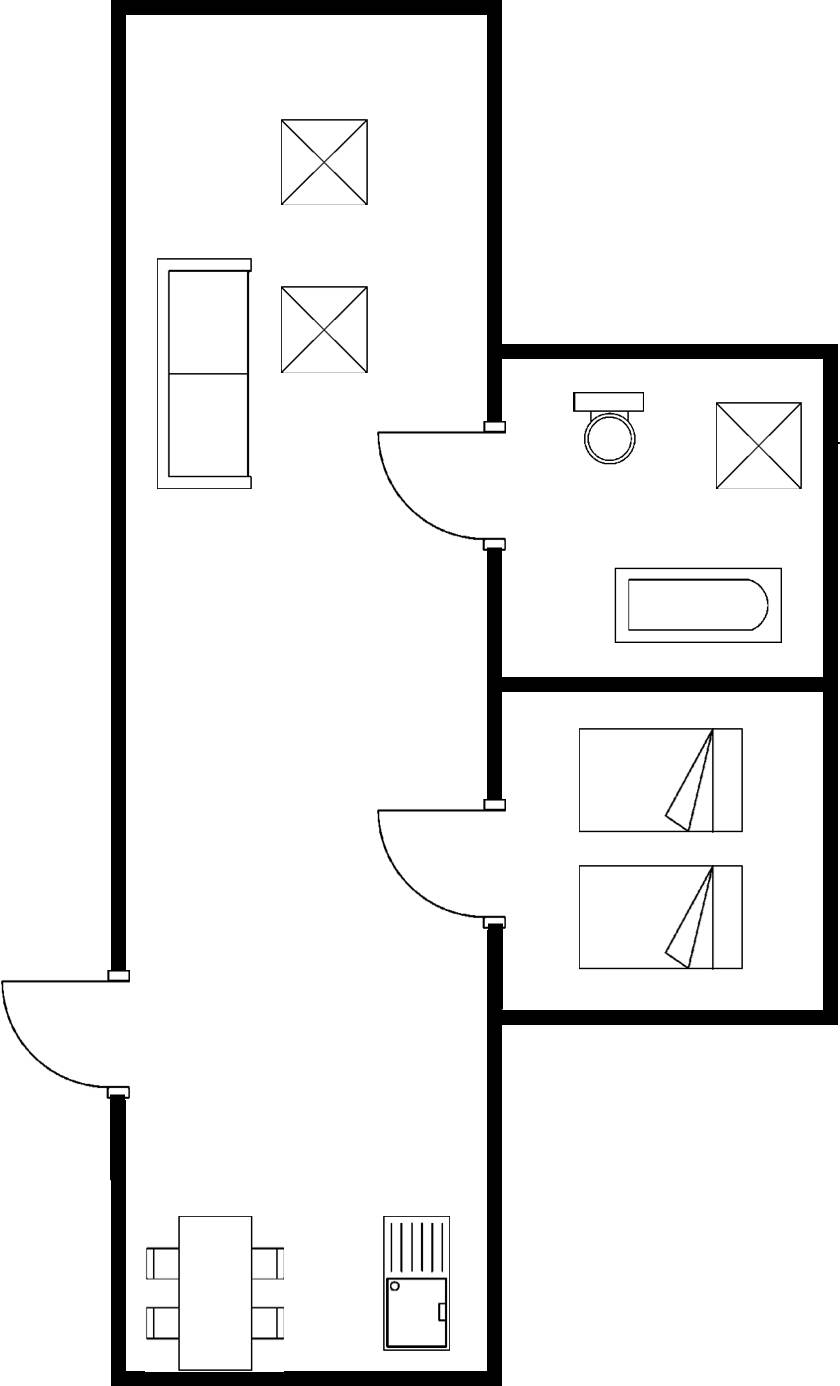bed: (572, 854, 751, 975), (572, 721, 751, 841)
coffee_table: (270, 106, 381, 219), (274, 277, 380, 381), (707, 398, 812, 496)
dining_table: (138, 1206, 297, 1376)
large_sink: (565, 386, 651, 471)
large_sofa: (145, 249, 261, 499)
sink: (370, 1209, 458, 1359)
tub: (608, 559, 795, 650)
